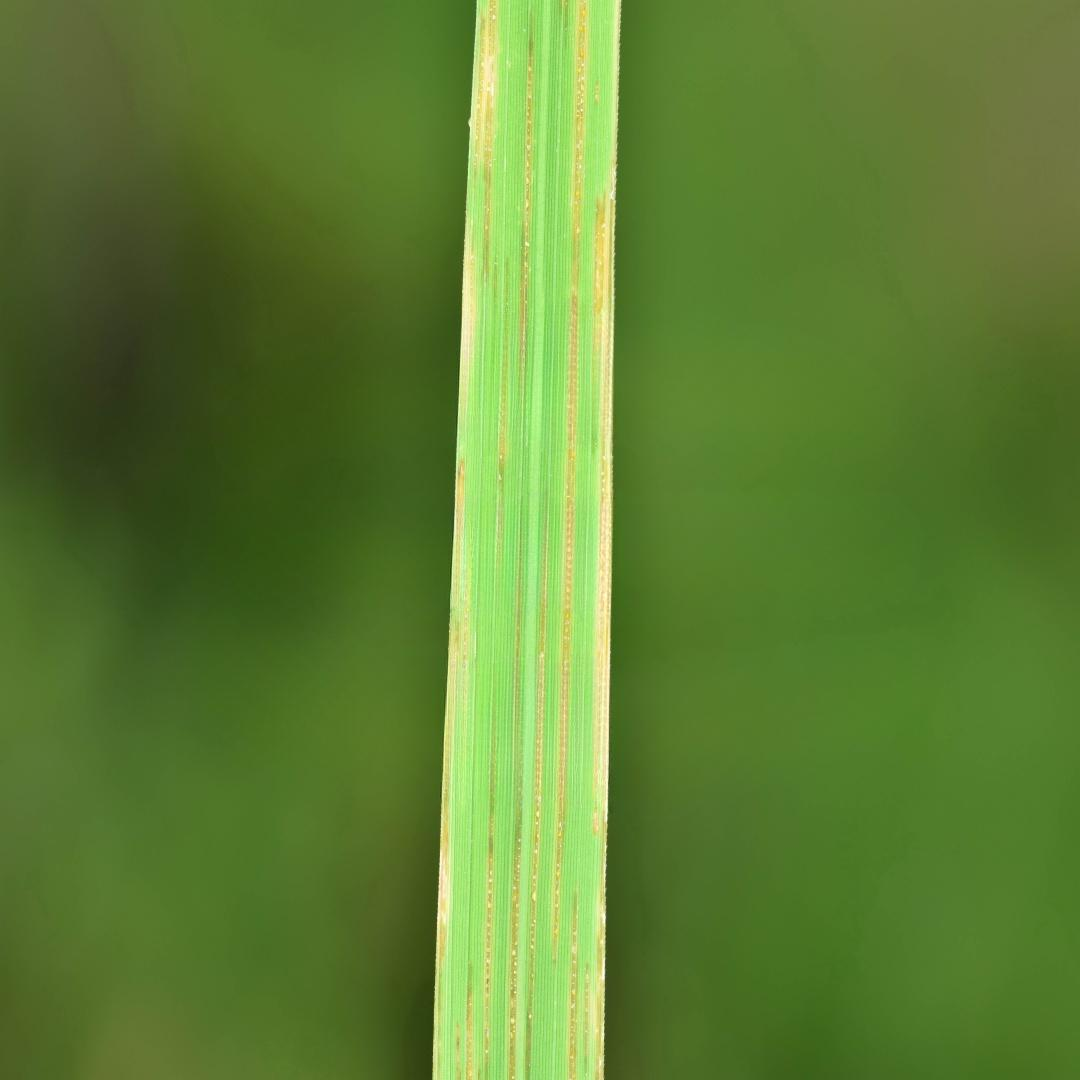BLS: (552, 1, 589, 961), (593, 1, 621, 1079), (435, 458, 465, 1078), (524, 483, 549, 1079), (508, 576, 524, 1079), (470, 0, 497, 291), (484, 713, 497, 1078), (494, 257, 509, 565), (521, 26, 533, 372), (459, 213, 475, 414), (568, 890, 578, 1078), (461, 570, 469, 756), (466, 961, 473, 1078), (584, 963, 590, 1077), (455, 1021, 461, 1079)
LEAF: (432, 0, 621, 1079)
